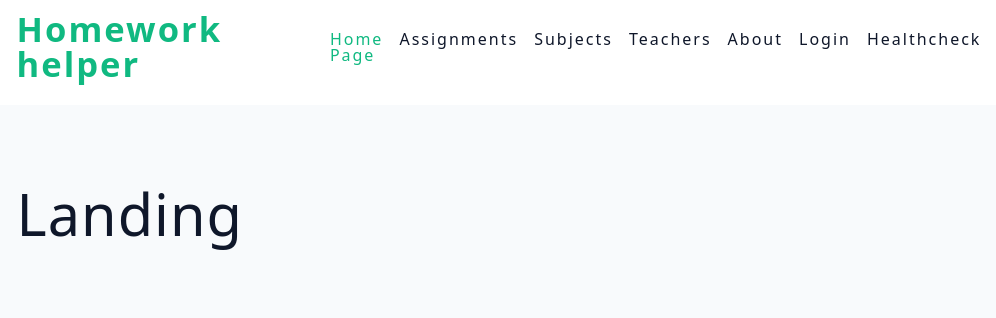
Test: full app rendering/navigating
Expected: the heading "Landing" is shown, [17, 174, 243, 253]
Note: verify page content for expected route after navigating
Click the link "About" at (755, 39), box [728, 28, 783, 50]
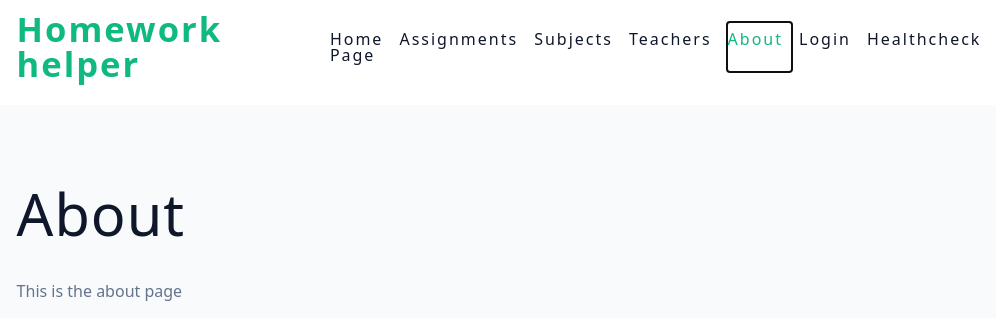
Result: the text "This is the about page" is shown at [17, 280, 182, 302]
